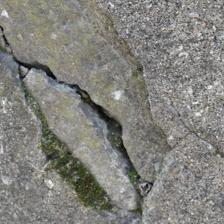Crack: (2, 16, 138, 171)
